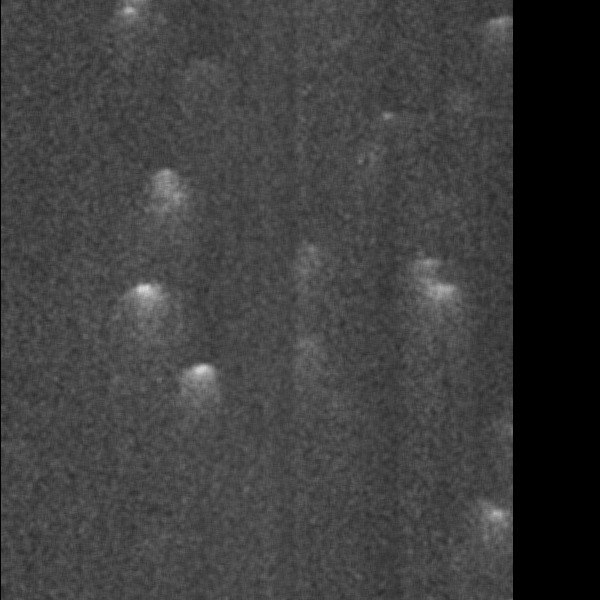spark: (414, 389, 473, 461), (83, 56, 124, 134), (462, 552, 496, 595)
